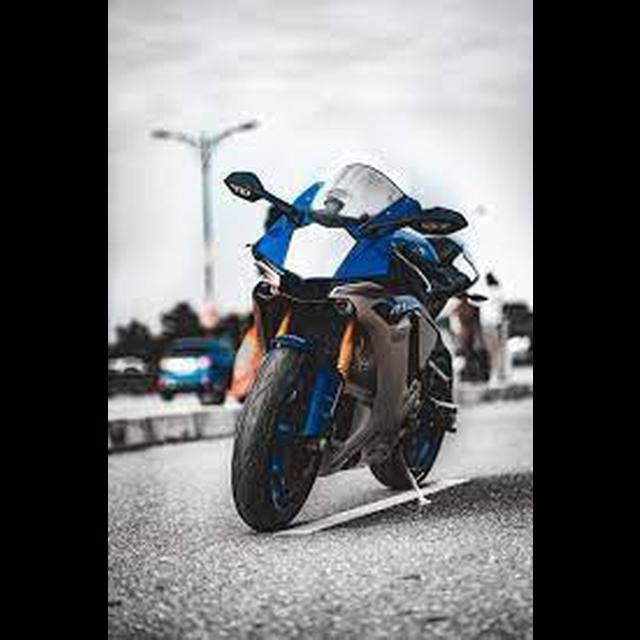motorcycle: (219, 157, 492, 540)
